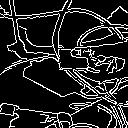cube: (57, 47, 89, 71)
